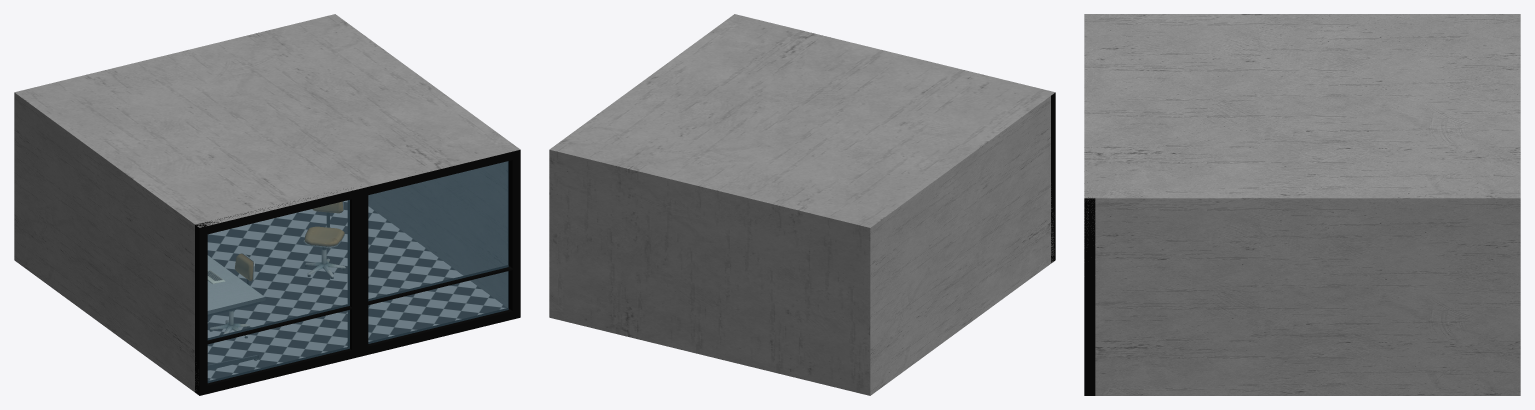
Rendered from window.glb.
The picture shows the model from 3 angles, left to right: view 1: azimuth 30°, elevation 25°; view 2: azimuth 150°, elevation 25°; view 3: azimuth 270°, elevation 25°; orthographic projection. The views are drawn at different scales.
Visible parts, largest first — view 1: Plane, room_light, vidro.001, vidro, Cube.005, lab_desk01, lab_chair.001, lab_chair; view 2: Plane, room_light, Cube.005; view 3: Plane, room_light, Cube.005.
Part boxes in pixels (<box>): Plane: <box>14,92,507,394</box>; room_light: <box>15,14,519,227</box>; vidro.001: <box>207,200,349,382</box>; vidro: <box>368,161,508,343</box>; Cube.005: <box>195,149,520,395</box>; lab_desk01: <box>207,255,265,370</box>; lab_chair.001: <box>303,201,345,278</box>; lab_chair: <box>209,253,254,338</box>; Plane: <box>549,96,1054,395</box>; room_light: <box>550,14,1054,227</box>; Cube.005: <box>1051,92,1055,263</box>; Plane: <box>1084,198,1520,395</box>; room_light: <box>1084,14,1520,198</box>; Cube.005: <box>1084,197,1095,395</box>.
Size of what is drawn, in the model's own units: 4 by 2.01 by 4.
9 materials, 8 textured.
